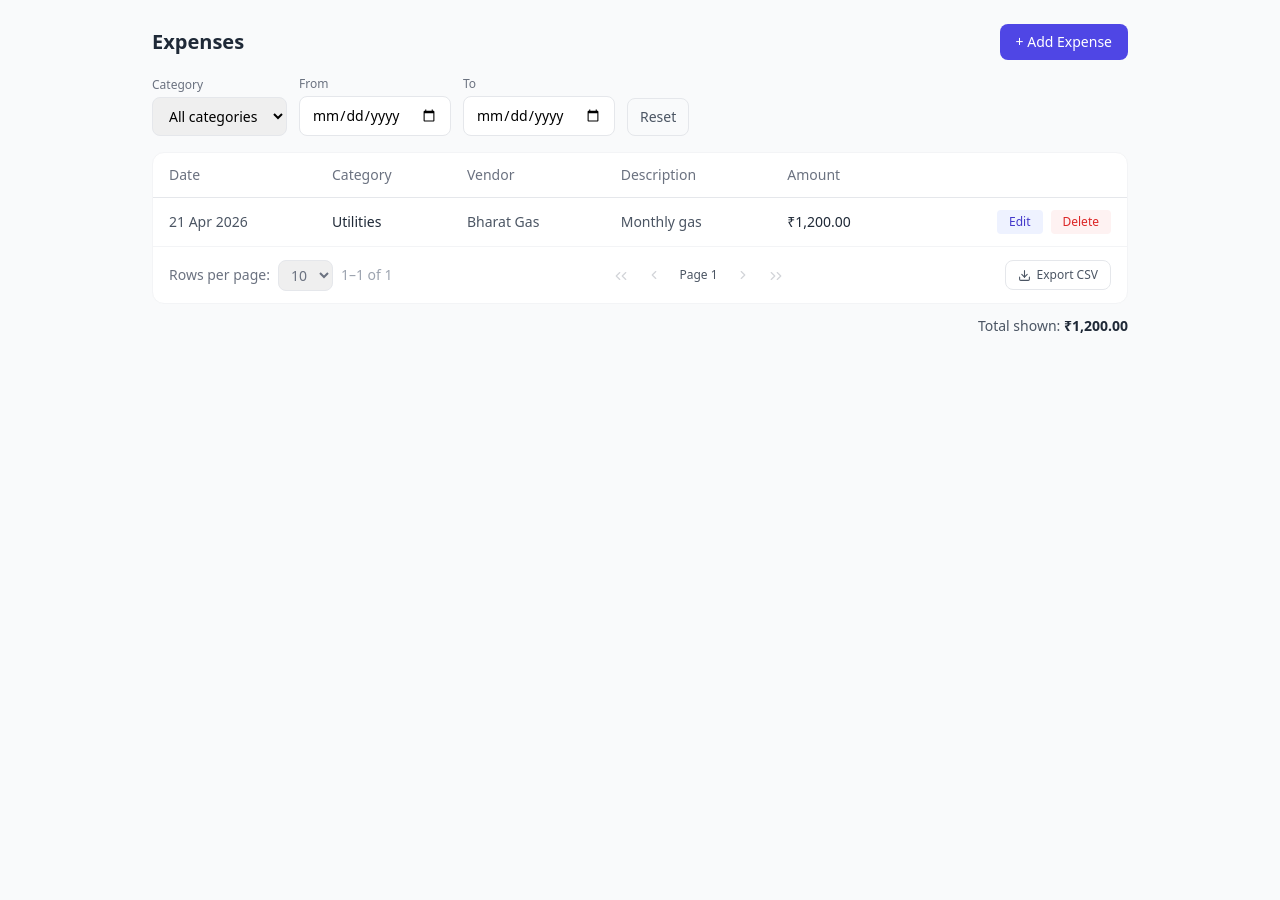
ExpenseList › opens Edit modal pre-filled
Click the button with aria-label "edit exp-1" at x=1020, y=222, box [997, 210, 1042, 234]
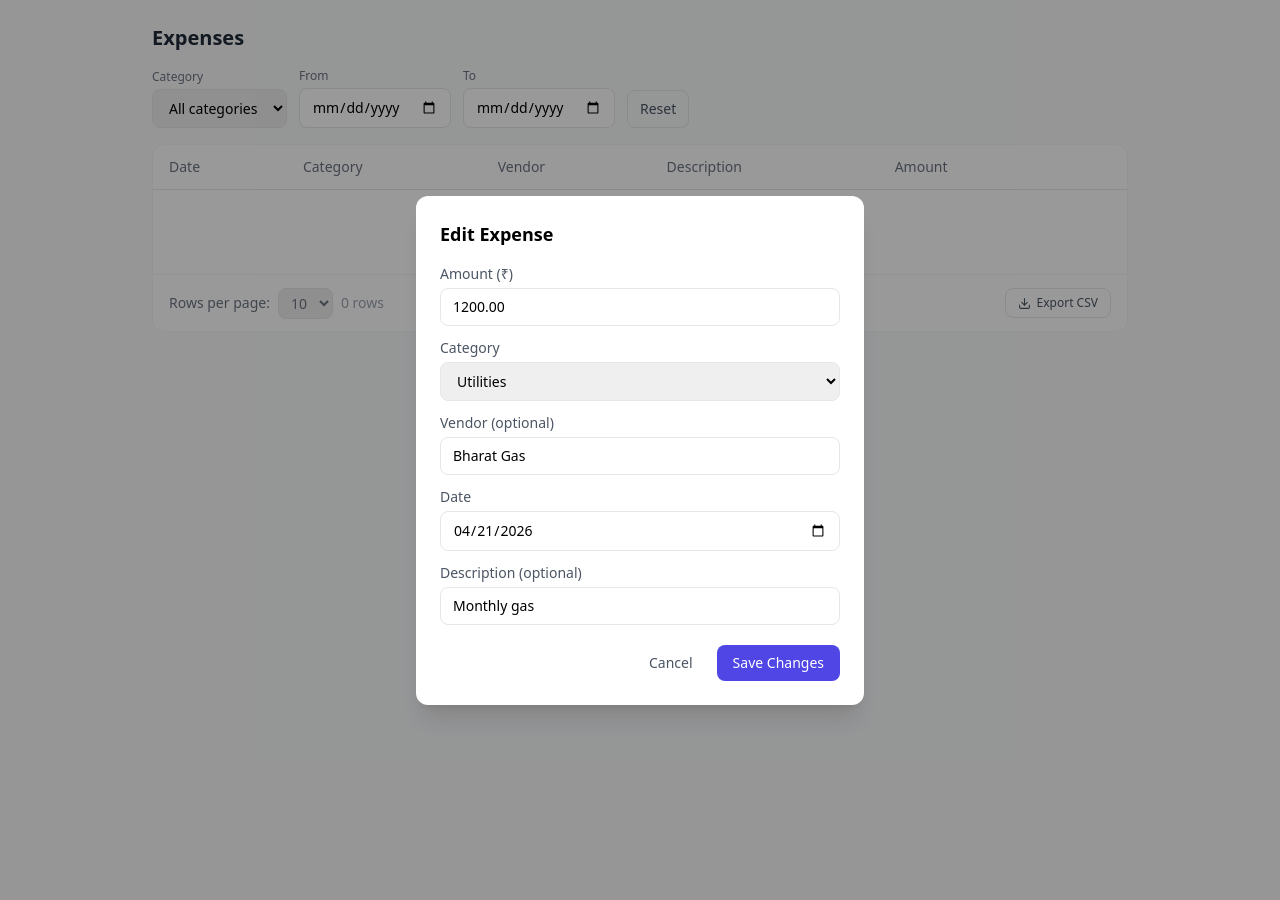
Result: the number field showing "1200.00" is shown at [440, 288, 840, 326]
